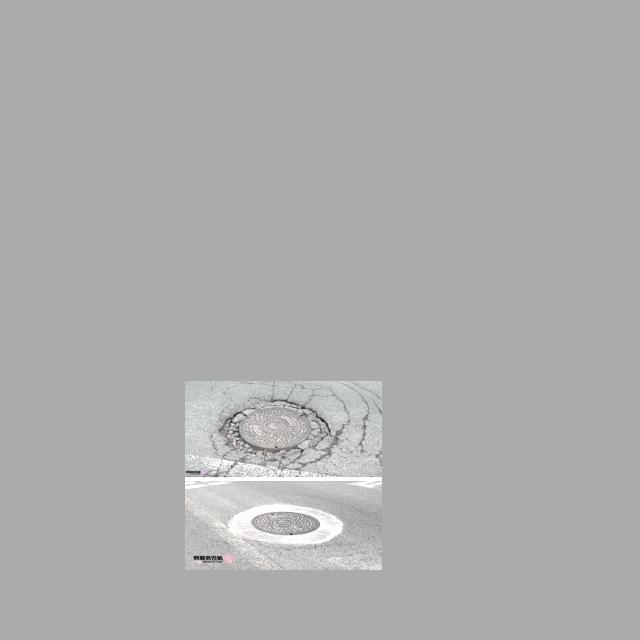circle: (210, 399, 338, 465)
